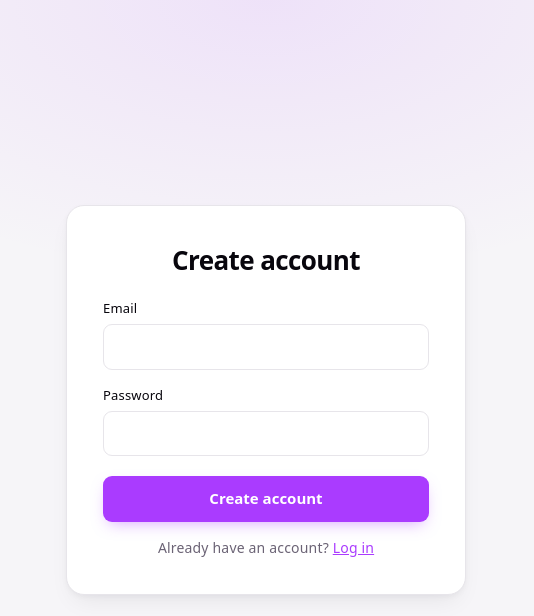
Test case: Register › disables the button while the request is pending
This screenshot has width=534, height=616.
Type "new@user.io" into the field labelled "Email" at (266, 347), box x1=103 y1=324 x2=429 y2=370
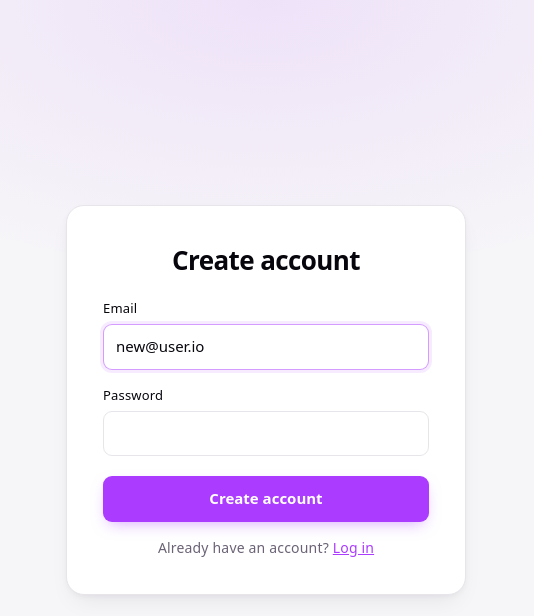
Type "longenough1" into the password field labelled "Password" at (266, 434), box x1=103 y1=411 x2=429 y2=456
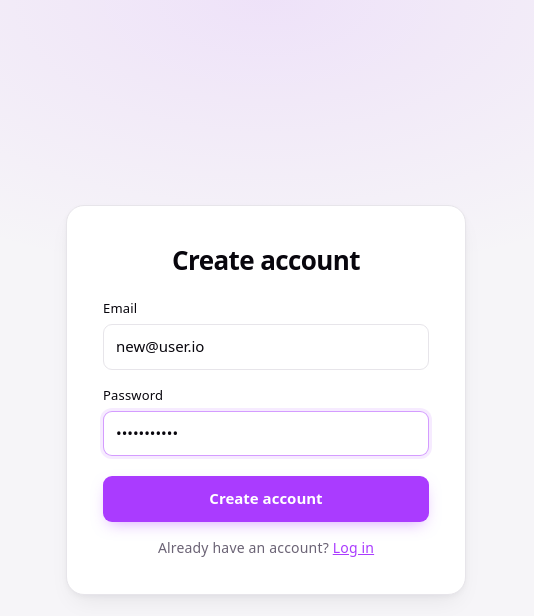
Click the button "Create account" at (266, 499), box x1=103 y1=476 x2=429 y2=522
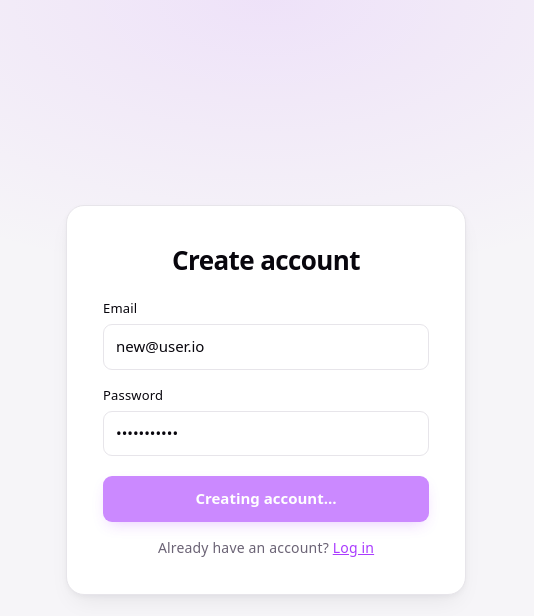
expect the button "Creating account…" is disabled: met, box x1=103 y1=476 x2=429 y2=522
